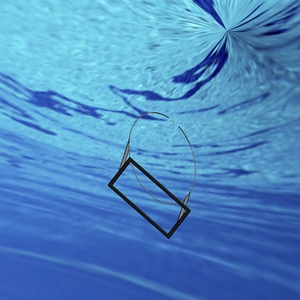circle: (107, 109, 197, 240)
